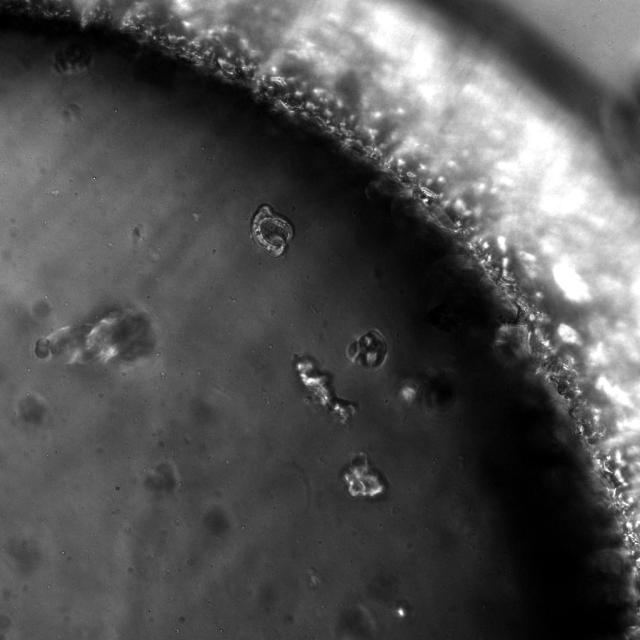organoid: (34, 305, 155, 363), (294, 356, 354, 421), (251, 204, 293, 257), (399, 371, 456, 410), (341, 454, 387, 498), (346, 329, 388, 368), (54, 42, 92, 73), (144, 461, 176, 492), (18, 395, 46, 424), (203, 507, 229, 535)
